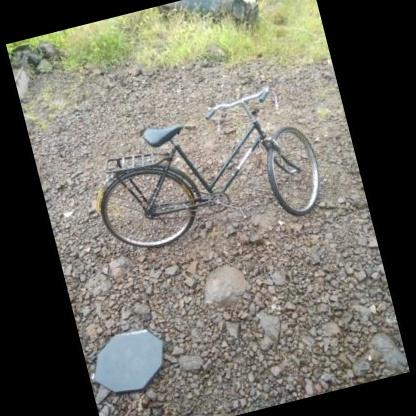Bicycle: (79, 65, 346, 274)
